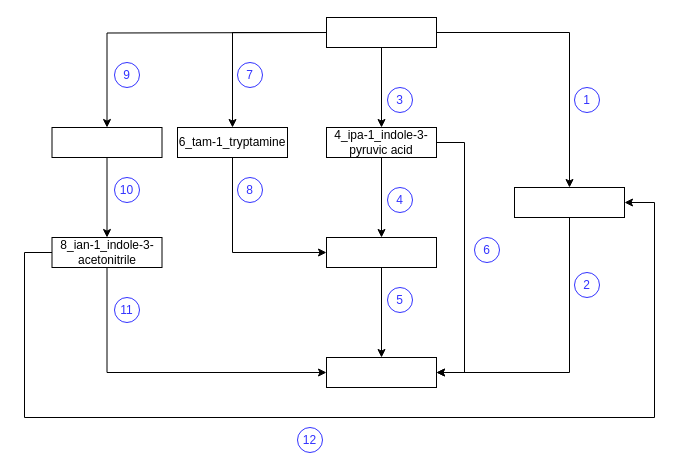
Some shapes in this 680 by 470 pixel diagram are drawn without their labels. Each missing label, with the box of its shape:
1_trp_Tryptophan: (326, 16, 436, 48)
2_iam-1_indole-3-acetamide: (514, 186, 624, 218)
3_iaa_indole-3-acetic acid: (326, 356, 436, 388)
5_ipa-2_indole-3-acetaldehyde: (326, 236, 436, 268)
7_iaox_indole-3-acetaldoxime: (51, 126, 162, 158)
